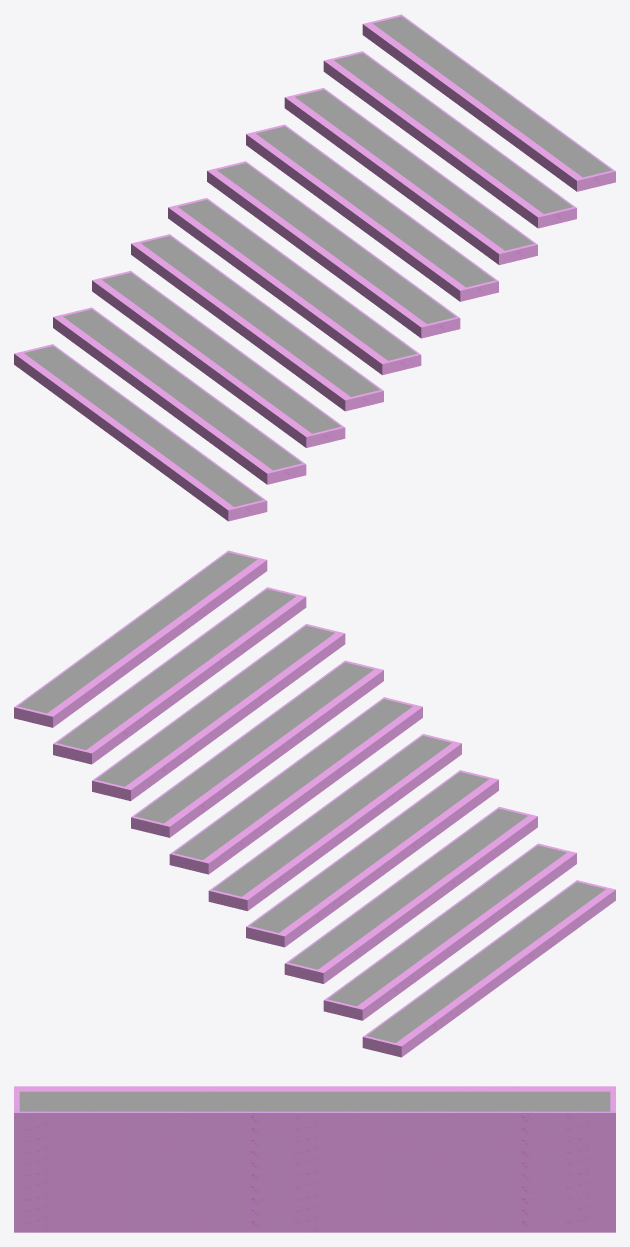
The model's file is 300W10StepStairs_01_SM_Low.fbx.
3 renders of one model, top to bottom at view 1: azimuth 30°, elevation 25°; view 2: azimuth 150°, elevation 25°; view 3: azimuth 270°, elevation 25°, orthographic. The views are drawn at different scales.
Visible parts, largest first — view 1: Grate_Geo (×10), StepGratingBase_Geo (×10); view 2: Grate_Geo (×10), StepGratingBase_Geo (×10); view 3: StepGratingBase_Geo (×10), Grate_Geo.
Boxes of the visible parts, bbox=[...] form: Grate_Geo (×10): bbox=[24, 16, 611, 506]; StepGratingBase_Geo (×10): bbox=[14, 14, 615, 521]; Grate_Geo (×10): bbox=[18, 552, 605, 1042]; StepGratingBase_Geo (×10): bbox=[14, 550, 615, 1057]; StepGratingBase_Geo (×10): bbox=[14, 1086, 615, 1232]; Grate_Geo: bbox=[19, 1091, 610, 1111].
Size of the model in its own units: 299 by 188 by 286.
2 materials, 1 textured.
